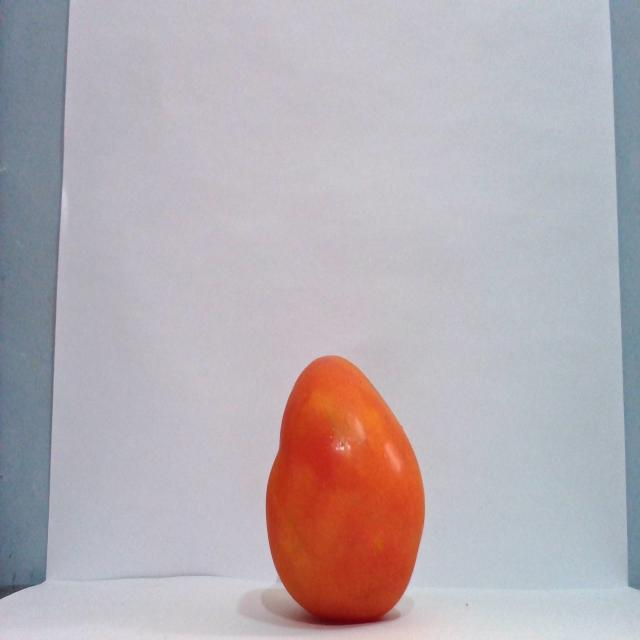Red: (264, 353, 426, 623)
